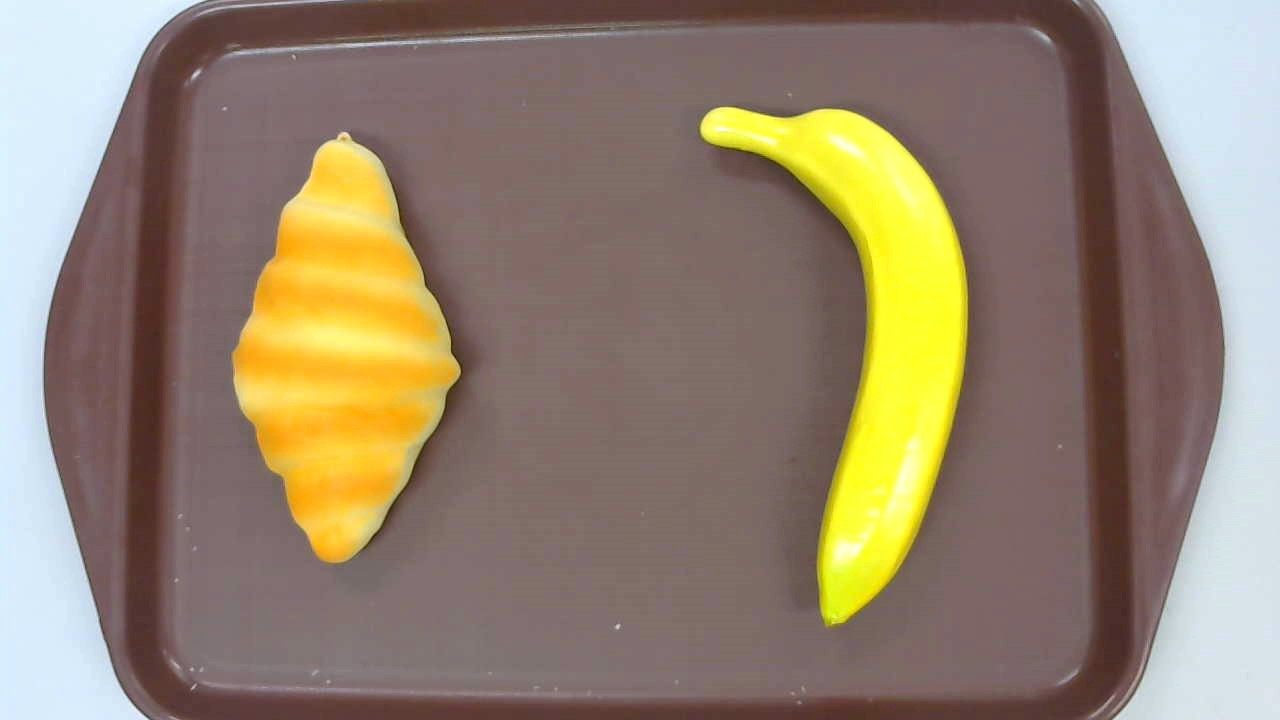banana: (699, 104, 970, 629)
croissant: (233, 129, 463, 566)
